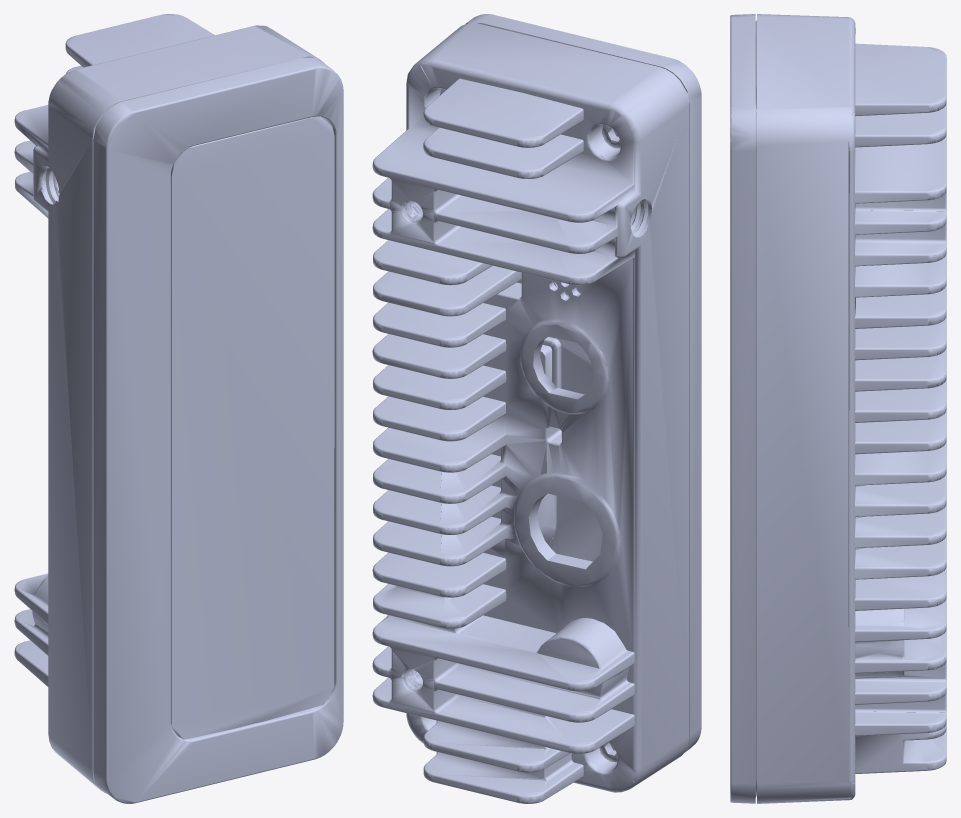
Rendered from oak_camera.glb.
3 renders of one model, left to right at view 1: azimuth 30°, elevation 25°; view 2: azimuth 150°, elevation 25°; view 3: azimuth 270°, elevation 25°, orthographic.
Visible parts, largest first — view 1: g0; view 2: g0; view 3: g0.
Part boxes in pixels (box(x1,y1,x2,y2)): g0: box(14, 14, 343, 803); g0: box(372, 14, 701, 803); g0: box(730, 14, 946, 803).
Bounding box in the file's own units: 0.04 × 0.111 × 0.0313.
